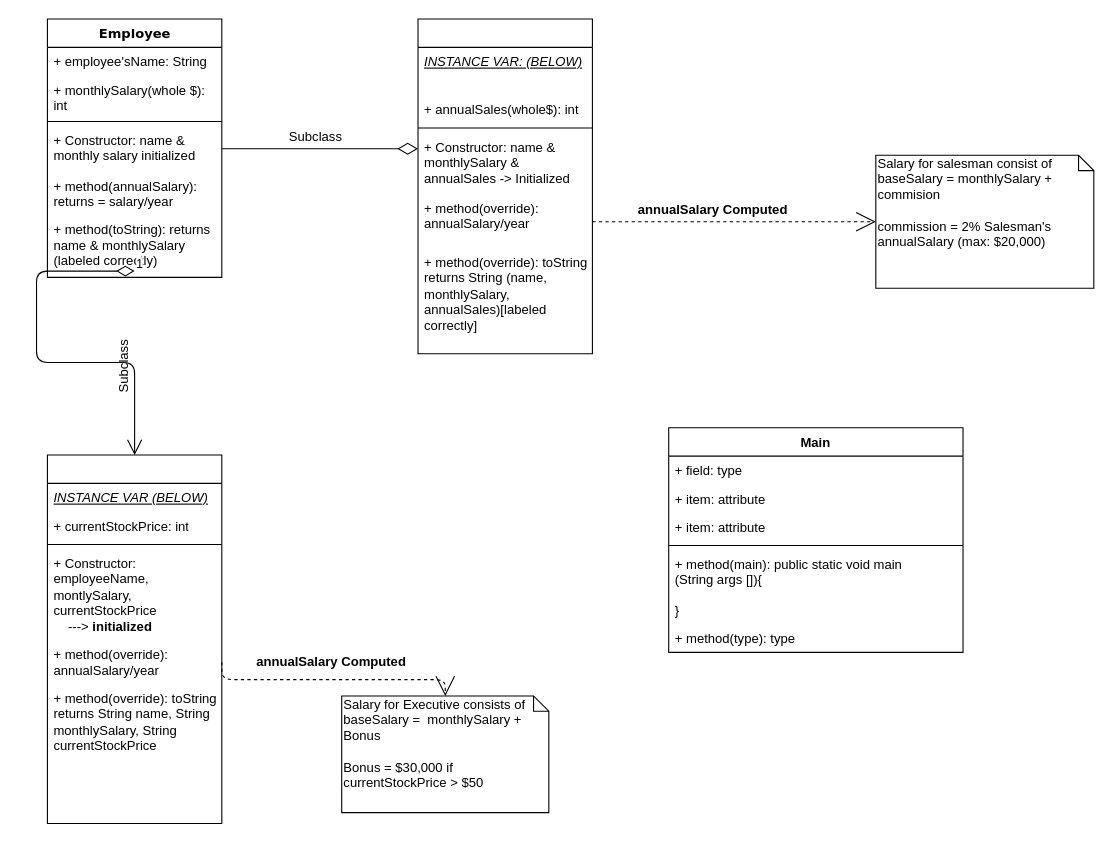
This 1113x843 diagram has some shape labels left out. Each missing label, with the box of its shape:
Executive(sub): (46, 454, 222, 823)
Salesman(subclass): (417, 18, 592, 354)
